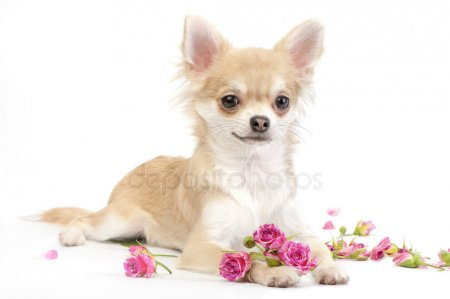chihuahua: (57, 12, 352, 287)
